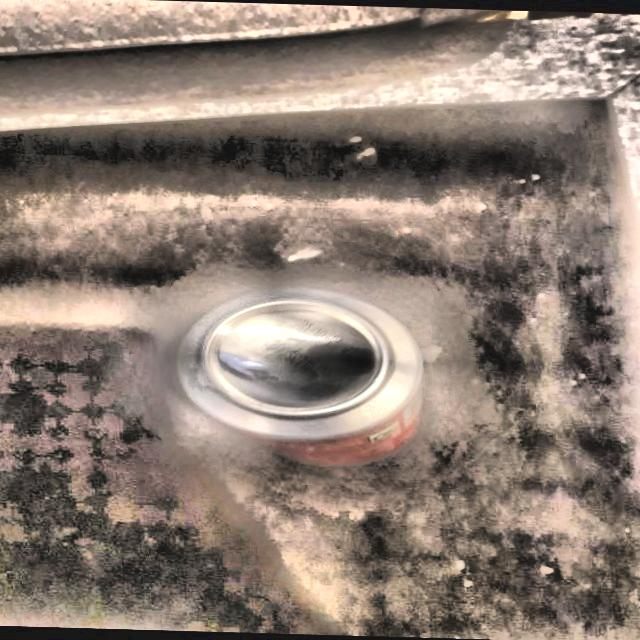coke-can: (175, 292, 419, 469)
